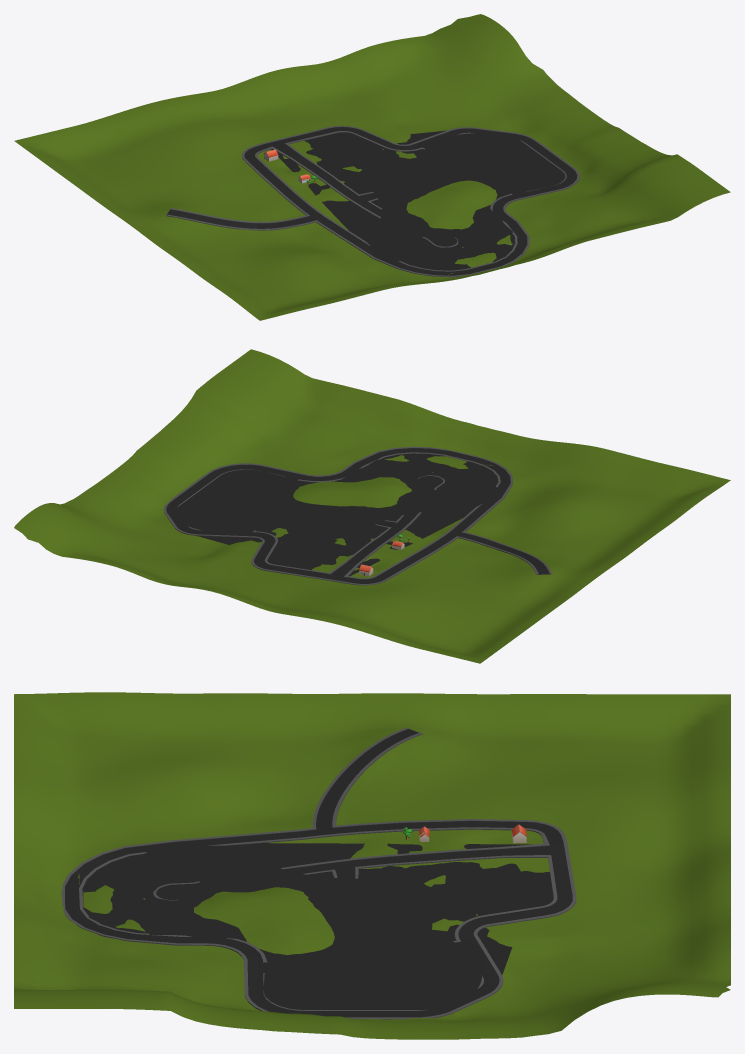
The model's file is JameGam2.fbx.
3 views of the same model, one above another, from view 1: azimuth 30°, elevation 25°; view 2: azimuth 150°, elevation 25°; view 3: azimuth 270°, elevation 25° (orthographic). The views are drawn at different scales.
Parts seen in each view (by area): view 1: Plane, Cube; view 2: Plane, Cube; view 3: Plane, Cube.
Boxes of the visible parts, x1,y1,x2,y2 form: Plane: (14, 14, 730, 320); Cube: (166, 125, 579, 277); Plane: (14, 349, 730, 663); Cube: (163, 446, 551, 585); Plane: (14, 692, 730, 1039); Cube: (61, 727, 576, 1019).
Bounding box in the file's own units: 81008 × 7070 × 73285.
